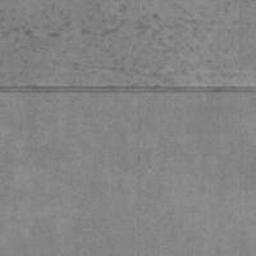Welding line: (0, 83, 256, 95)
